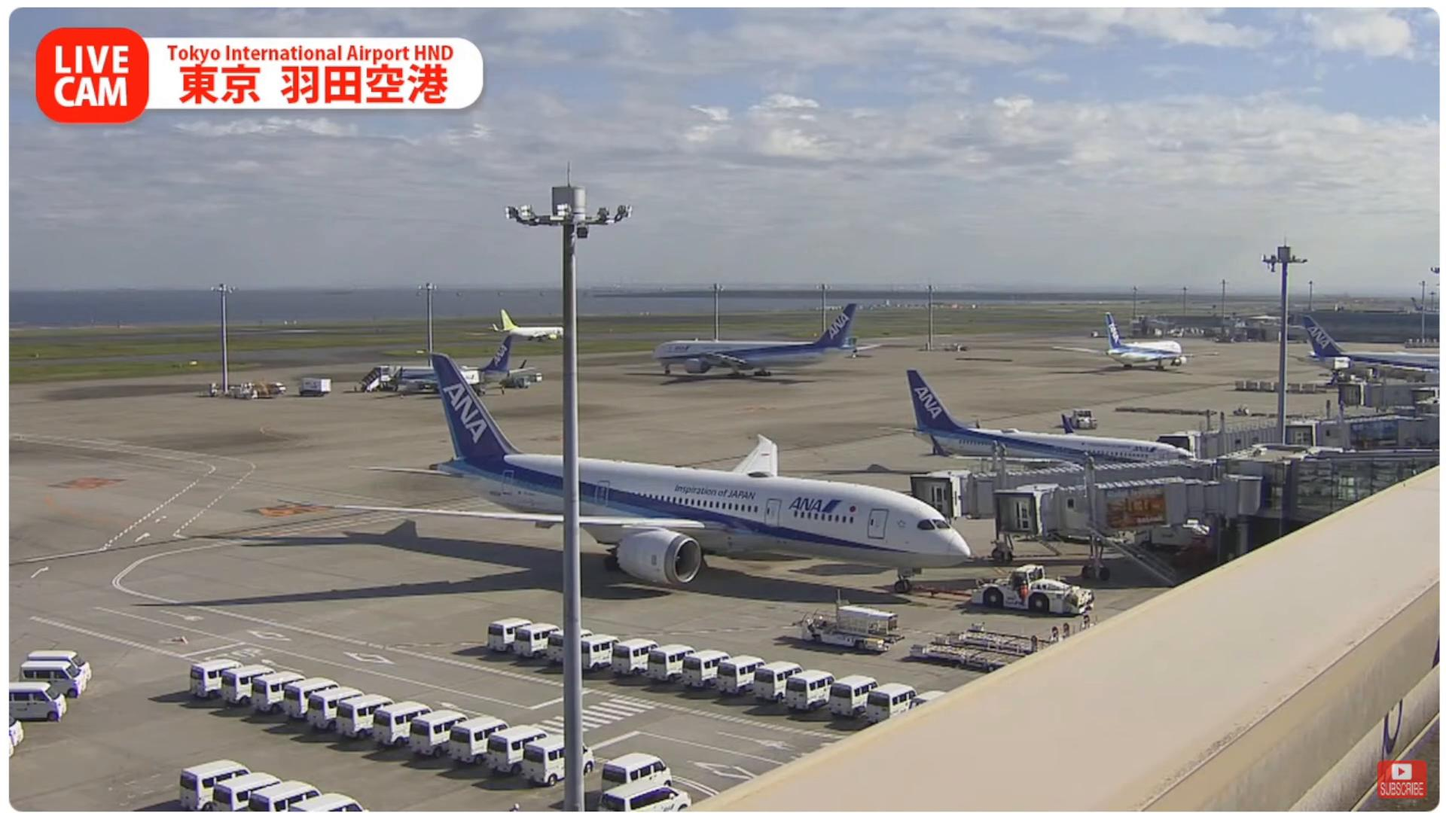APS: (969, 564, 1094, 615)
Aerobridge: (912, 439, 1226, 564), (997, 451, 1259, 589)
Airplane: (332, 354, 971, 595)
JCPL: (912, 627, 1059, 672), (947, 614, 1090, 655)
Skyloader: (798, 604, 904, 652)
Window: (1290, 458, 1438, 523)
